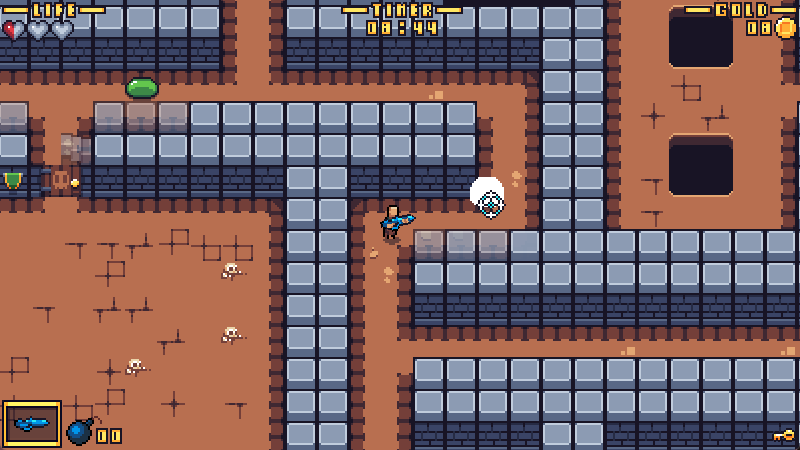aim: (477, 191, 505, 219)
door: (27, 134, 94, 200)
enemy_slug: (122, 76, 162, 98)
enemy_slug_hit: (468, 175, 506, 207)
health-5: (1, 17, 76, 41)
key: (770, 427, 797, 445)
player: (378, 205, 414, 242)
